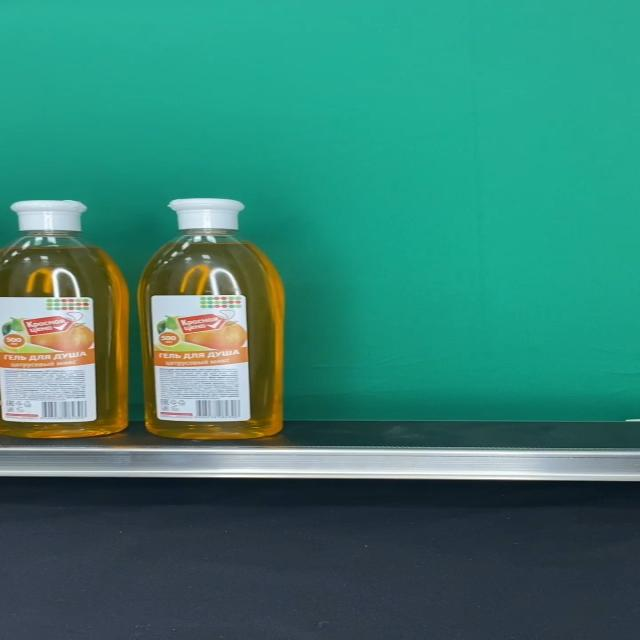Bottle: (140, 198, 284, 439), (0, 199, 130, 438)
Cap: (167, 198, 245, 230), (10, 200, 87, 232)
